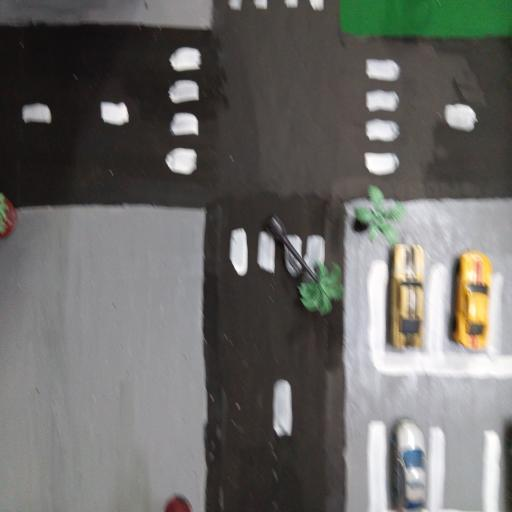fallen trees: (264, 212, 344, 321)
